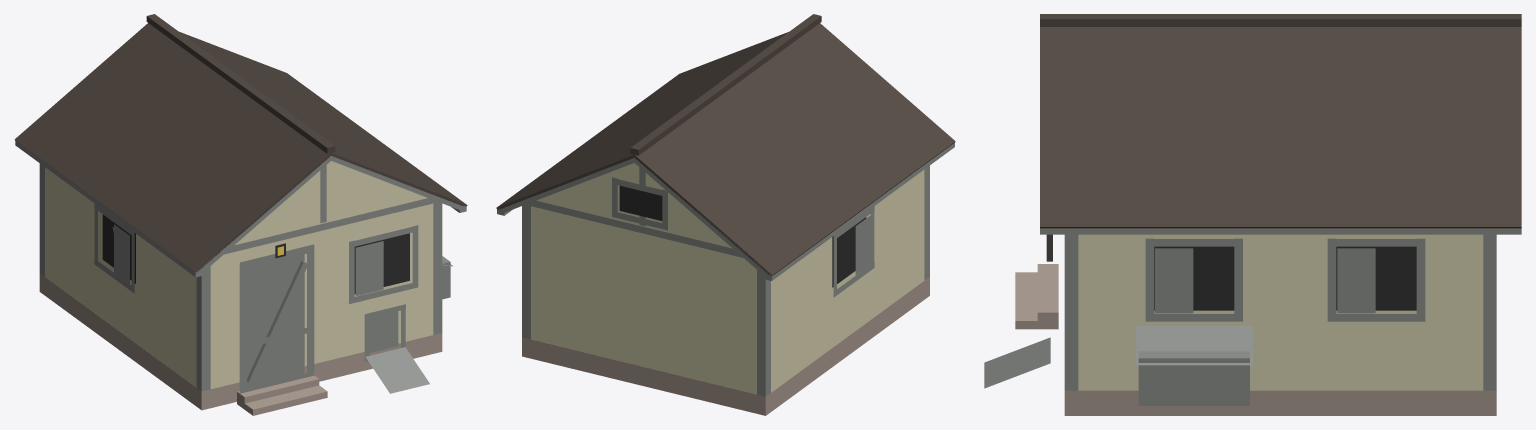
The model's file is Coop_A_Low.fbx.
3 renders of one model, left to right at view 1: azimuth 30°, elevation 25°; view 2: azimuth 150°, elevation 25°; view 3: azimuth 270°, elevation 25°, orthographic. The views are drawn at different scales.
Visible parts, largest first — view 1: Coop_A_Low; view 2: Coop_A_Low; view 3: Coop_A_Low.
Part boxes in pixels (x1,y1,x2,y2): Coop_A_Low: (14, 14, 467, 415); Coop_A_Low: (496, 14, 955, 415); Coop_A_Low: (984, 14, 1521, 415).
Bounding box in the file's own units: 7.35 × 5.74 × 8.7.
